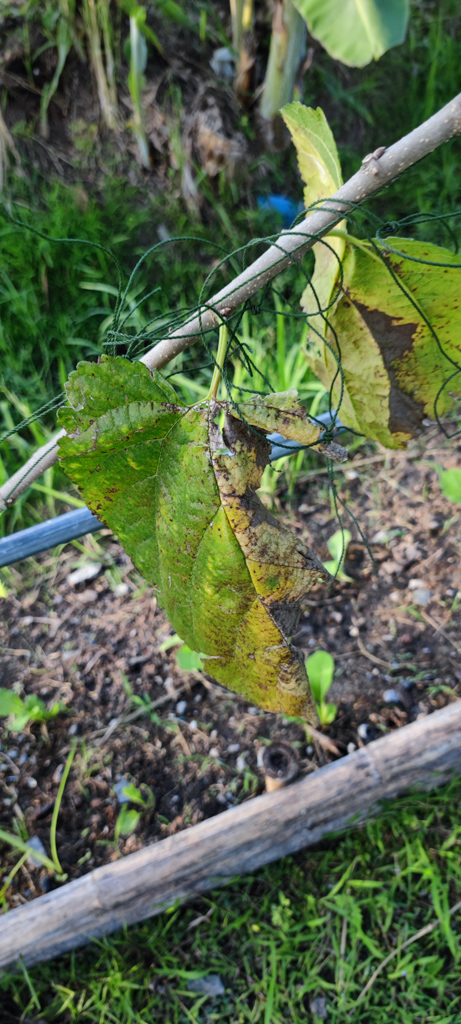Pepper yellow leaf: (166, 381, 362, 751), (294, 239, 456, 442)
